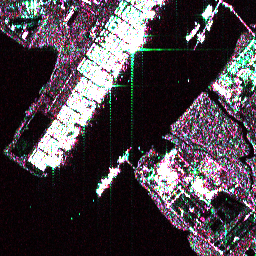ship: (183, 21, 202, 43), (202, 5, 215, 20), (199, 3, 211, 19), (205, 18, 214, 32), (198, 33, 206, 44)
